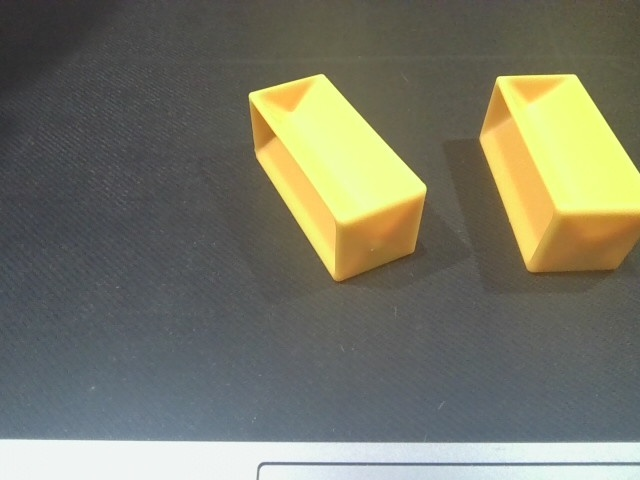YellowSample: (240, 72, 428, 286), (475, 73, 640, 274)
